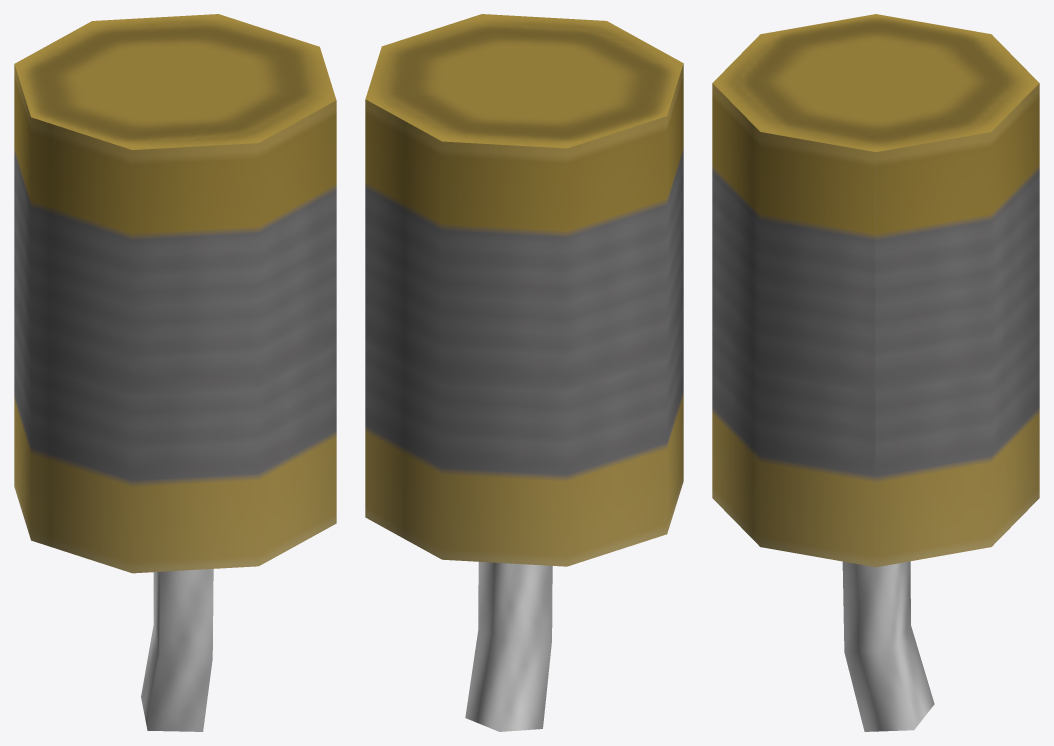
File: Big_Tincanbomb_Hand.fbx
3 views of the same model, side by side, from view 1: azimuth 30°, elevation 25°; view 2: azimuth 150°, elevation 25°; view 3: azimuth 270°, elevation 25° (orthographic).
Visible parts, largest first — view 1: PipeBomb; view 2: PipeBomb; view 3: PipeBomb.
Part boxes in pixels (x1,y1,x2,y2): PipeBomb: (14, 14, 336, 731); PipeBomb: (365, 14, 683, 731); PipeBomb: (712, 14, 1039, 731).
Bounding box in the file's own units: 0.0627 × 0.1351 × 0.0627.
